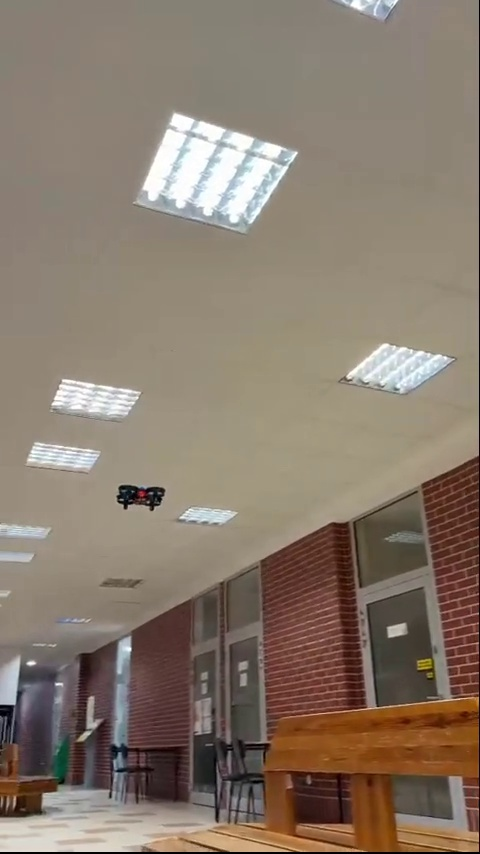drone: (112, 485, 168, 517)
